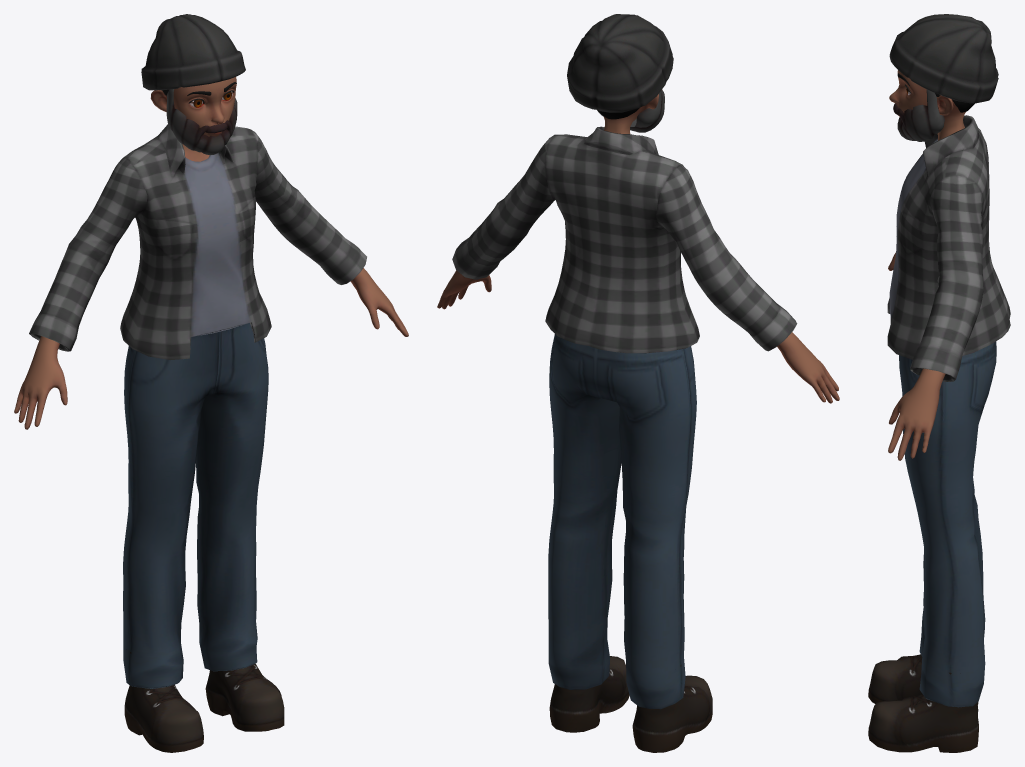
Rendered from Fisherman_Mesh.obj.
3 renders of one model, left to right at view 1: azimuth 30°, elevation 25°; view 2: azimuth 150°, elevation 25°; view 3: azimuth 270°, elevation 25°, orthographic.
Visible parts, largest first — view 1: Fisherman_Mesh_0; view 2: Fisherman_Mesh_0; view 3: Fisherman_Mesh_0.
Boxes of the visible parts, left/top/right/bottom form: Fisherman_Mesh_0: left=14, top=14, right=408, bottom=752; Fisherman_Mesh_0: left=437, top=14, right=839, bottom=752; Fisherman_Mesh_0: left=868, top=14, right=1010, bottom=752.
Size of the model in its own units: 1.06 by 1.84 by 0.3357.
1 material, 1 textured.
